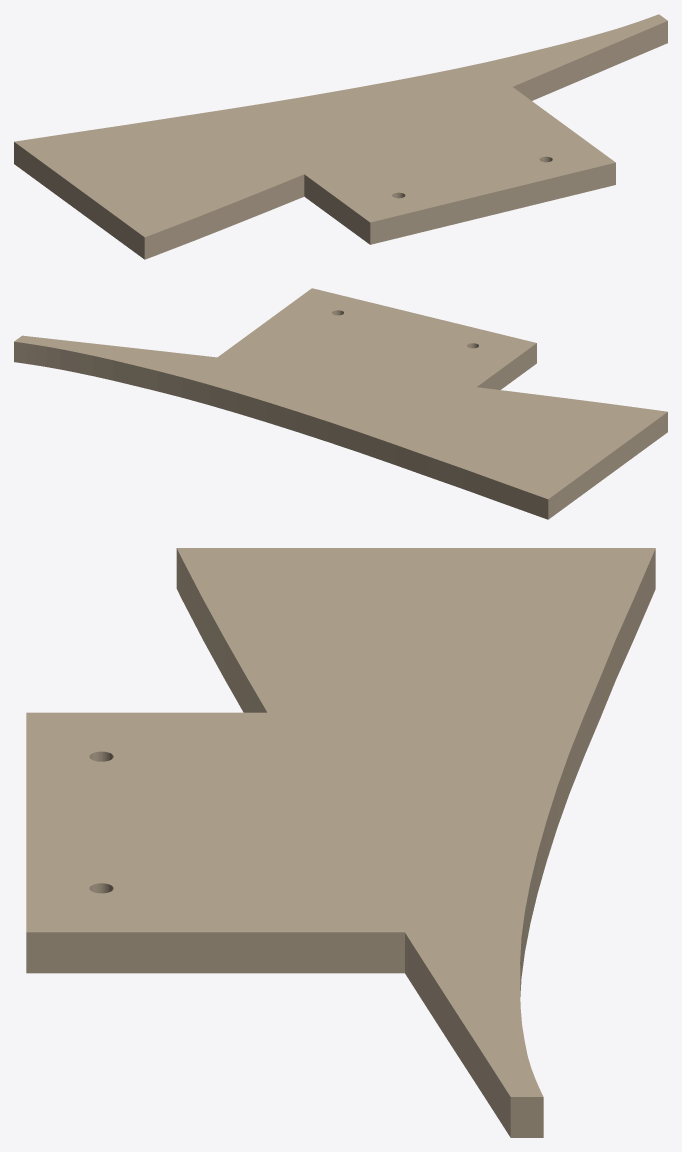
The model's file is T-HW-AFT.glb.
The picture shows the model from 3 angles, top to bottom: view 1: azimuth 30°, elevation 25°; view 2: azimuth 150°, elevation 25°; view 3: azimuth 270°, elevation 25°; orthographic projection. The views are drawn at different scales.
Parts seen in each view (by area): view 1: geometry_0; view 2: geometry_0; view 3: geometry_0.
Boxes of the visible parts, x1,y1,x2,y2 form: geometry_0: [14, 14, 667, 259]; geometry_0: [14, 288, 667, 519]; geometry_0: [26, 548, 655, 1137].
Size of the model in its own units: 345 by 12 by 167.
